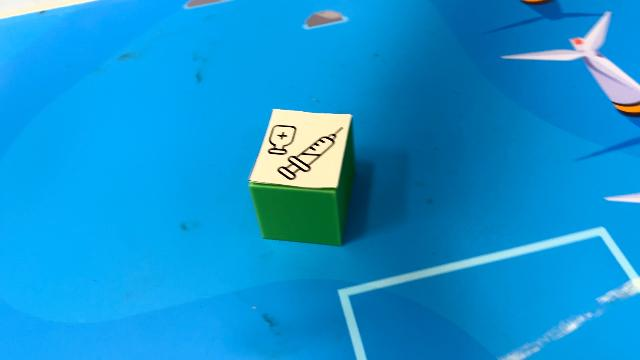syringe: (251, 110, 357, 246)
